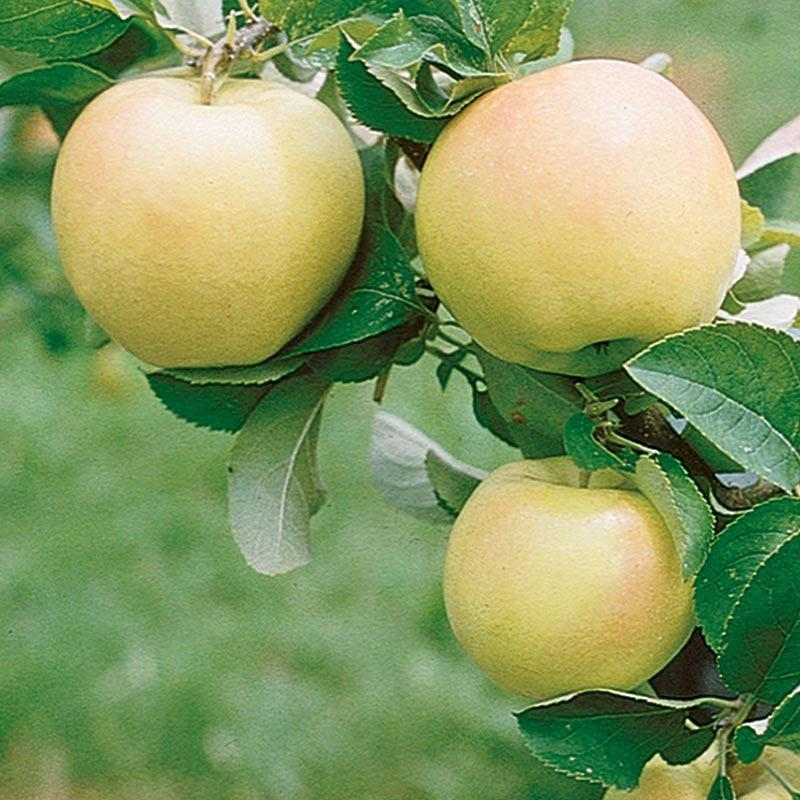apple: (408, 59, 746, 381), (50, 63, 369, 375), (441, 457, 697, 699)
